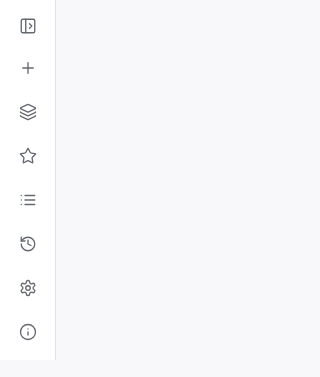
Test: SideNav › 点击切换按钮后展开并显示每个导航名
This screenshot has width=320, height=377.
Click the button with test id "sidebar-toggle".
click(28, 26)  # box [8,8,48,44]
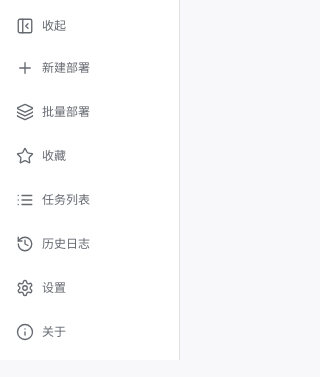
Expected: the text "新建部署" is shown, [42,60,90,76]
Expected: the text "收藏" is shown, [42,148,66,164]
Expected: the text "任务列表" is shown, [42,192,90,208]
